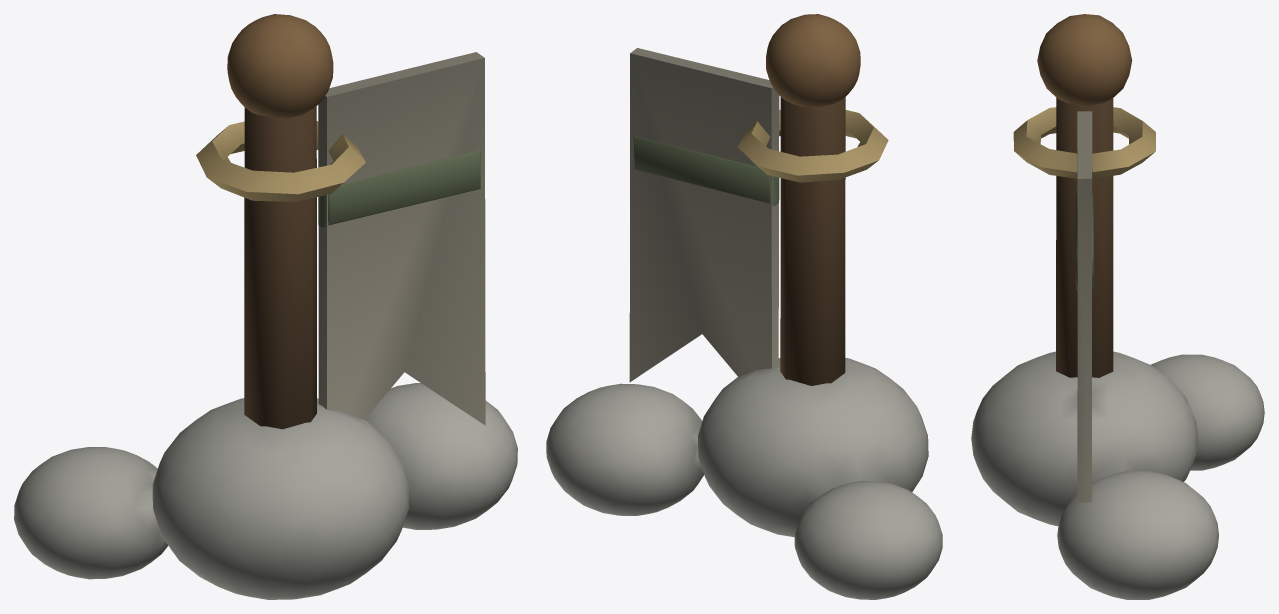
Rendered from kite_pennant_b.glb.
3 renders of one model, left to right at view 1: azimuth 30°, elevation 25°; view 2: azimuth 150°, elevation 25°; view 3: azimuth 270°, elevation 25°, orthographic. The views are drawn at different scales.
Parts seen in each view (by area): view 1: Surface; view 2: Surface; view 3: Surface.
Boxes of the visible parts, box(x1,y1,x2,y2) form: Surface: box(14, 14, 517, 599); Surface: box(546, 14, 942, 599); Surface: box(971, 14, 1264, 599).
Size of the model in its own units: 1.28 by 1.54 by 0.8227.
